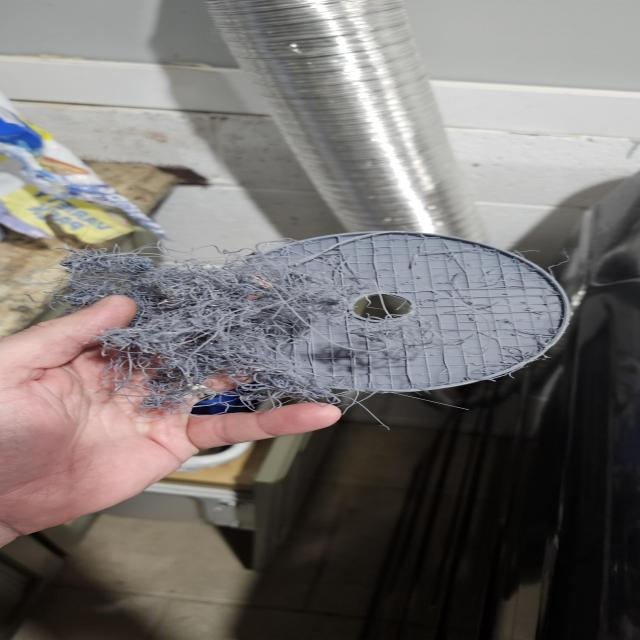Spaghetti: (45, 233, 572, 427)
